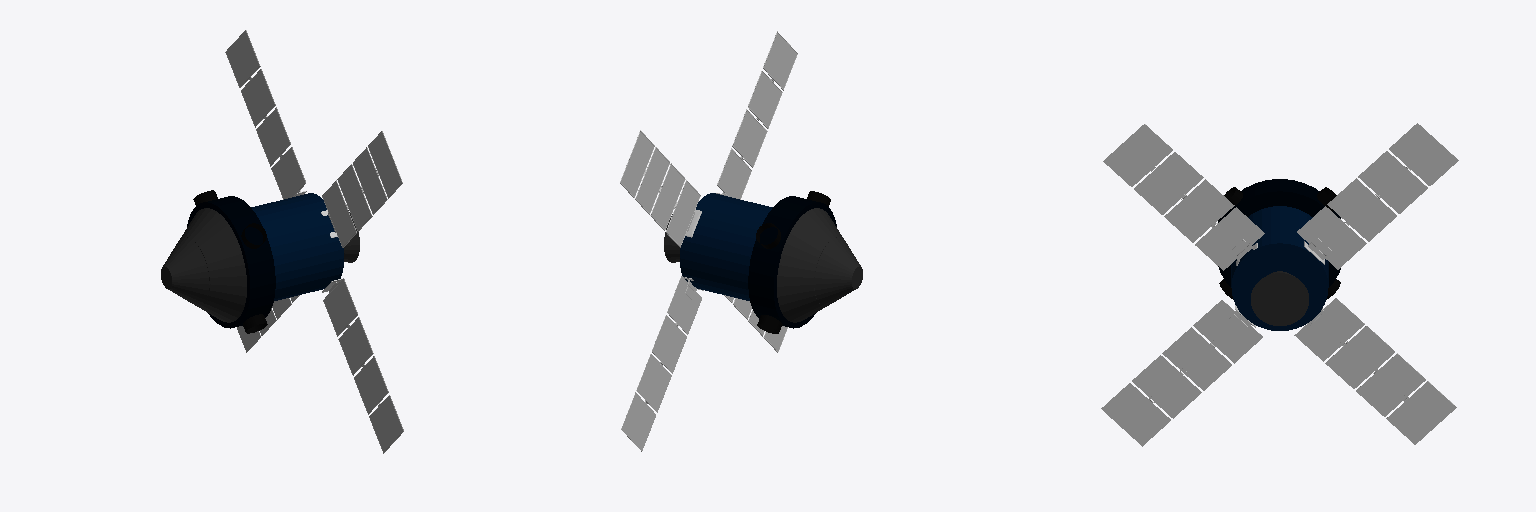
The model's file is satellite.obj.
3 views of the same model, side by side, from view 1: azimuth 30°, elevation 25°; view 2: azimuth 150°, elevation 25°; view 3: azimuth 270°, elevation 25° (orthographic).
Parts seen in each view (by area): view 1: Cylinder, Cube.002, Cube.004, Cube.003, Cone, Cylinder.001, Cone.001, Cube.001; view 2: Cylinder, Cube.003, Cube.001, Cube.002, Cone, Cylinder.001, Cone.001, Cube.004; view 3: Cube.003, Cube.002, Cube.004, Cube, Cylinder, Cylinder.001, Cone.002.
Boxes of the visible parts, <box> form: Cylinder: <box>251,193,343,300</box>; Cube.002: <box>321,131,402,247</box>; Cube.004: <box>322,278,403,453</box>; Cube.003: <box>225,30,306,199</box>; Cone: <box>180,208,246,322</box>; Cylinder.001: <box>187,196,275,328</box>; Cone.001: <box>161,237,209,305</box>; Cube.001: <box>237,295,299,352</box>; Cylinder: <box>680,193,772,300</box>; Cube.003: <box>620,130,701,247</box>; Cube.001: <box>621,276,702,450</box>; Cube.002: <box>716,31,797,199</box>; Cone: <box>777,208,843,322</box>; Cylinder.001: <box>748,196,836,328</box>; Cone.001: <box>814,237,862,305</box>; Cube.004: <box>724,295,787,352</box>; Cube.003: <box>1297,123,1458,269</box>; Cube.002: <box>1103,124,1264,270</box>; Cube.004: <box>1101,300,1262,446</box>; Cube: <box>1294,298,1456,444</box>; Cylinder: <box>1231,206,1328,330</box>; Cylinder.001: <box>1218,179,1340,286</box>; Cone.002: <box>1251,271,1308,325</box>.
Size of the model in its own units: 7.02 by 12.14 by 12.17.